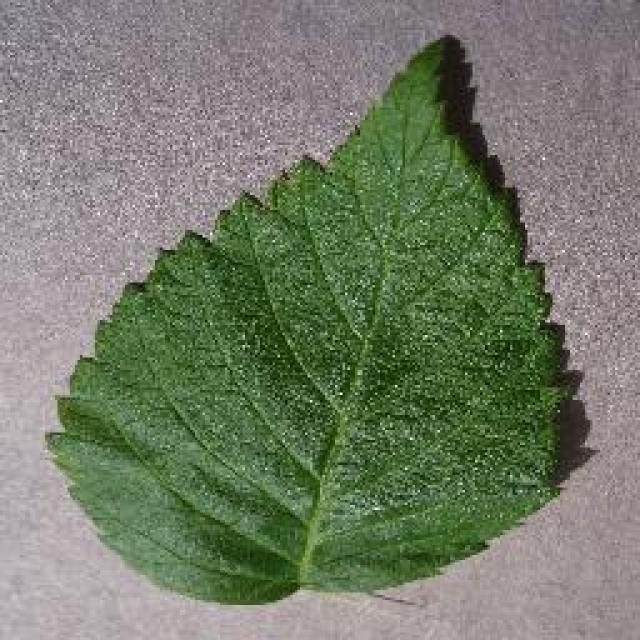Ras_healthy: (61, 122, 574, 575)
